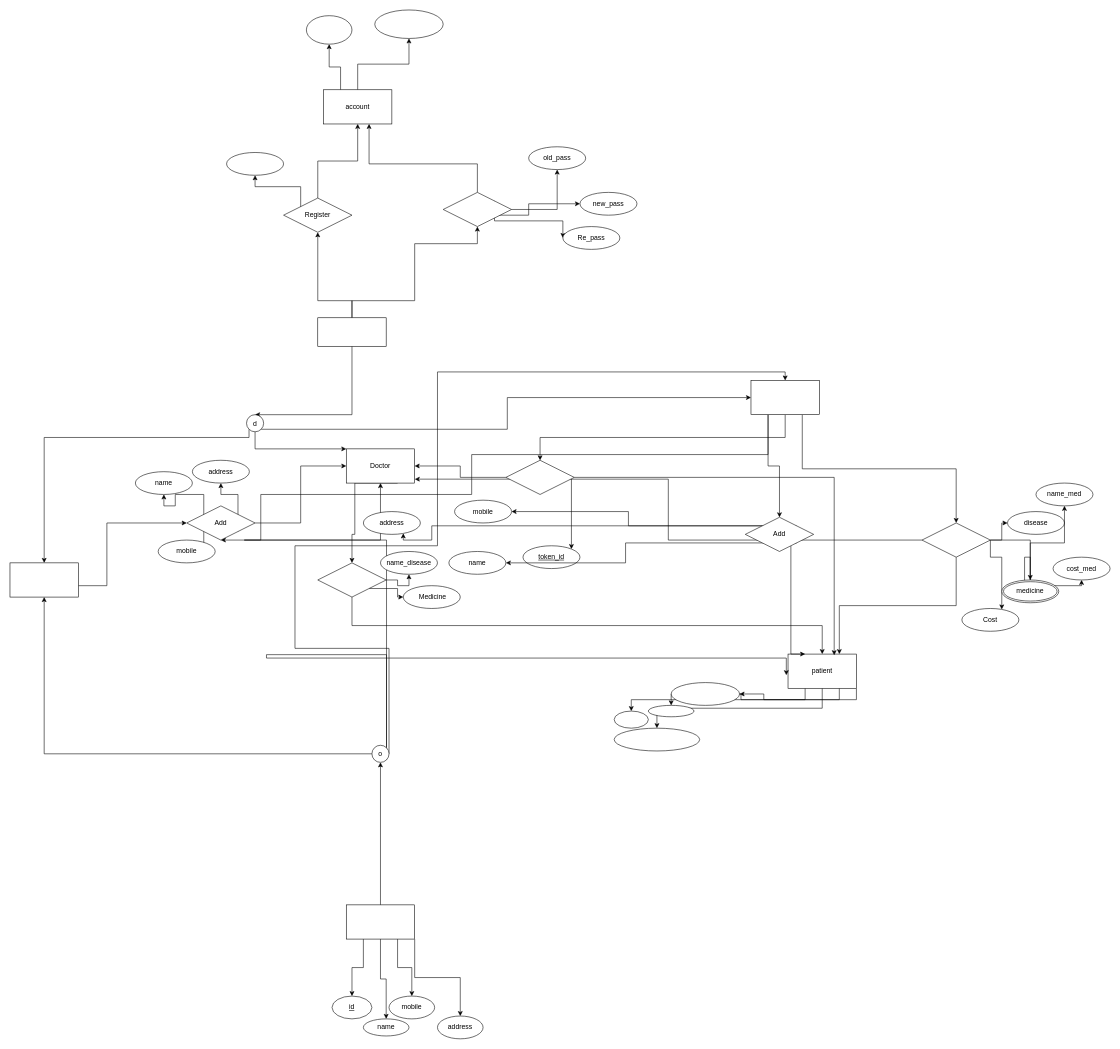
Image size: 1120x1049. Some labels were removed from this diagram. Each missing label, with the centre of its shape:
add_prescription: the point at 351,579
Admin: the point at 43,579
Bed_cost: the point at 671,711
change_pass: the point at 477,209
create_token: the point at 539,477
date: the point at 631,719
discharge_patient: the point at 955,539
number_residency_days: the point at 657,739
password: the point at 408,23
person: the point at 380,921
Receptionist: the point at 784,397
resources_charges: the point at 705,693
type_user: the point at 255,163
user: the point at 351,331
username: the point at 329,29
